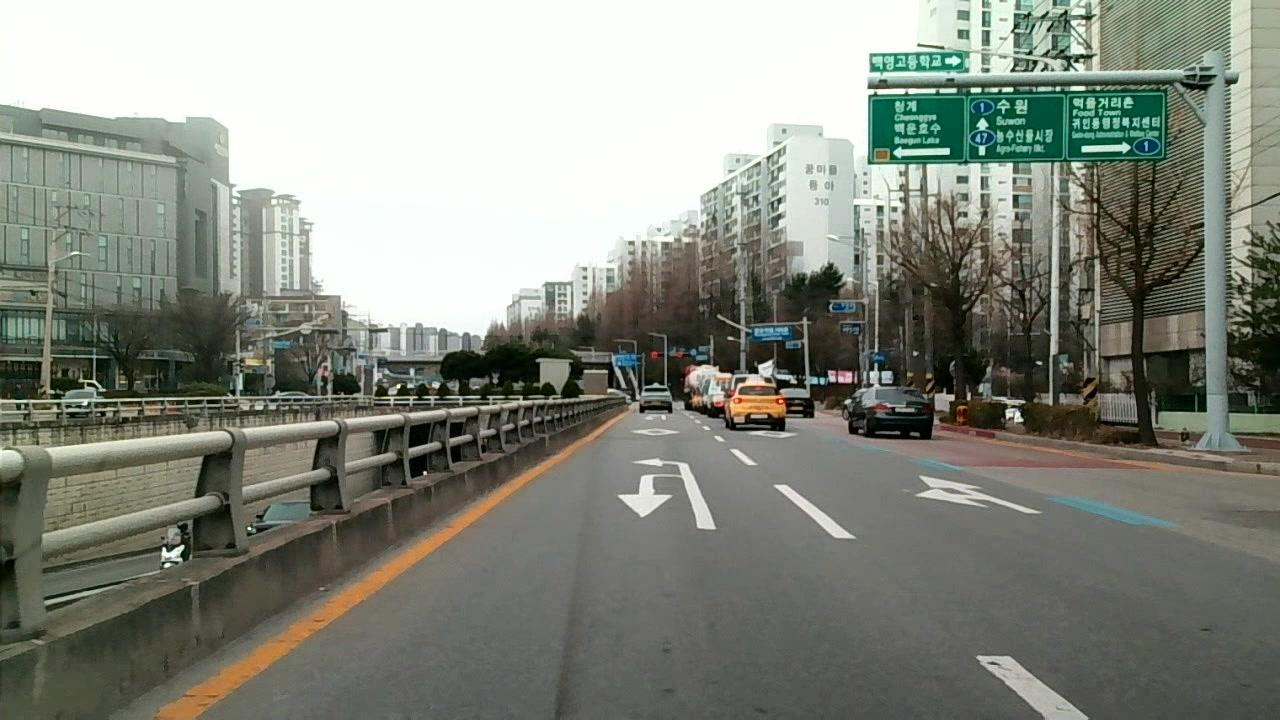vcrack: (550, 540, 576, 716)
